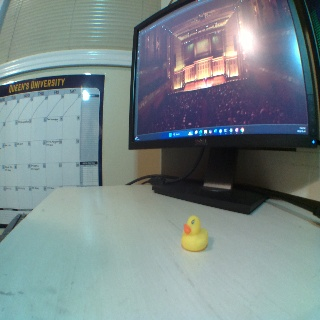duck_regular: (182, 214, 207, 251)
